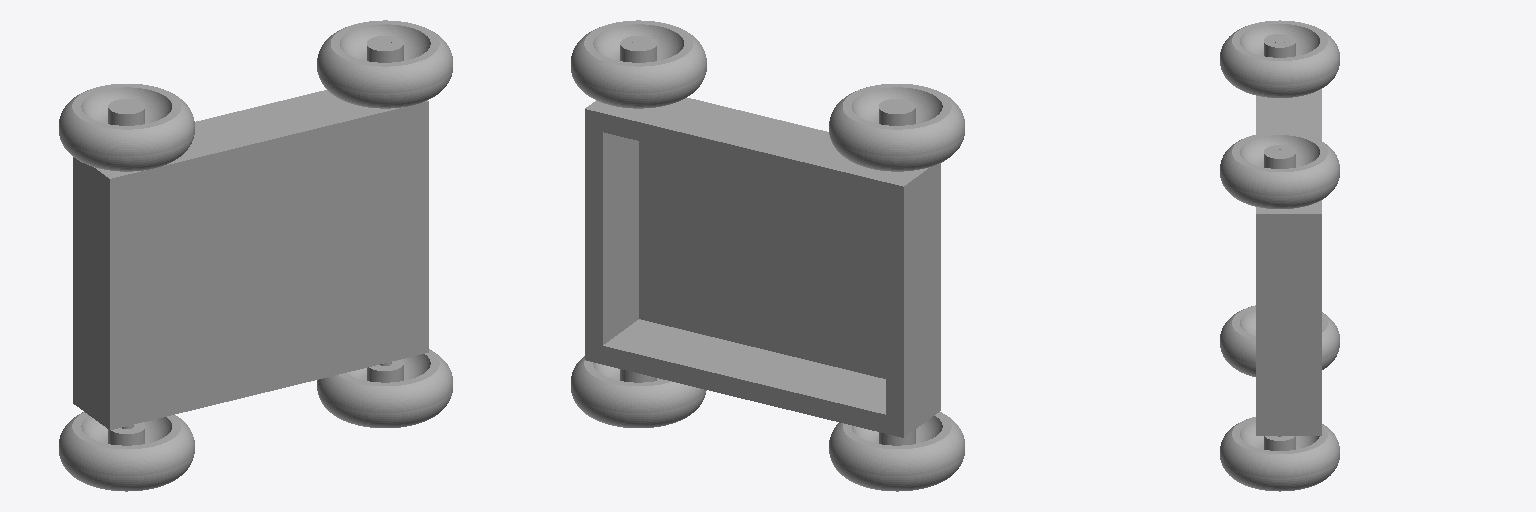
robot.urdf — solverbot:
<?xml version="1.0" ?>
<robot name="solverbot">

  <!-- Material -->
  <material name="silver">
    <color rgba="0.700 0.700 0.700 1.000"/>
  </material>

  <!-- Gazebo plugins y materiales -->
  <gazebo>
    <plugin filename="libgazebo_ros_control.so" name="control"/>
  </gazebo>

  <gazebo reference="base_link">
    <material>Gazebo/Silver</material>
    <mu1>0.2</mu1>
    <mu2>0.2</mu2>
    <selfCollide>true</selfCollide>
    <gravity>true</gravity>
  </gazebo>

  <gazebo reference="left_wheel_1">
    <material>Gazebo/Silver</material>
    <mu1>0.2</mu1>
    <mu2>0.2</mu2>
    <selfCollide>true</selfCollide>
  </gazebo>

  <gazebo reference="left_wheel__1__1">
    <material>Gazebo/Silver</material>
    <mu1>0.2</mu1>
    <mu2>0.2</mu2>
    <selfCollide>true</selfCollide>
  </gazebo>

  <gazebo reference="rigth_wheel_1">
    <material>Gazebo/Silver</material>
    <mu1>0.2</mu1>
    <mu2>0.2</mu2>
    <selfCollide>true</selfCollide>
  </gazebo>

  <gazebo reference="rigth_wheel__1__1">
    <material>Gazebo/Silver</material>
    <mu1>0.2</mu1>
    <mu2>0.2</mu2>
    <selfCollide>true</selfCollide>
  </gazebo>

  <!-- Base principal -->
  <link name="base_link">
    <inertial>
      <origin rpy="0 0 0" xyz="0.2025 0.0381 0.1525"/>
      <mass value="21.4927"/>
      <inertia ixx="0.3162" ixy="0" ixz="0" iyy="0.7727" iyz="0" izz="0.4829"/>
    </inertial>
    <visual>
      <origin rpy="0 0 0" xyz="0 0 0"/>
      <geometry>
        <mesh filename="package://solver_description/meshes/base_link.stl" scale="0.001 0.001 0.001"/>
      </geometry>
      <material name="silver"/>
    </visual>
    <collision>
      <origin rpy="0 0 0" xyz="0 0 0"/>
      <geometry>
        <mesh filename="package://solver_description/meshes/base_link.stl" scale="0.001 0.001 0.001"/>
      </geometry>
    </collision>
  </link>

  <!-- Ruedas izquierda -->
  <link name="left_wheel_1">
    <visual>
      <origin rpy="0 0 0" xyz="-0.0385 -0.0295 0.067"/>
      <geometry>
        <mesh filename="package://solver_description/meshes/left_wheel_1.stl" scale="0.001 0.001 0.001"/>
      </geometry>
      <material name="silver"/>
    </visual>
  </link>

  <link name="left_wheel__1__1">
    <visual>
      <origin rpy="0 0 0" xyz="-0.3665 -0.0295 0.067"/>
      <geometry>
        <mesh filename="package://solver_description/meshes/left_wheel__1__1.stl" scale="0.001 0.001 0.001"/>
      </geometry>
      <material name="silver"/>
    </visual>
  </link>

  <!-- Ruedas derecha -->
  <link name="rigth_wheel_1">
    <visual>
      <origin rpy="0 0 0" xyz="-0.3665 -0.0295 -0.372"/>
      <geometry>
        <mesh filename="package://solver_description/meshes/rigth_wheel_1.stl" scale="0.001 0.001 0.001"/>
      </geometry>
      <material name="silver"/>
    </visual>
  </link>

  <link name="rigth_wheel__1__1">
    <visual>
      <origin rpy="0 0 0" xyz="-0.0385 -0.0295 -0.372"/>
      <geometry>
        <mesh filename="package://solver_description/meshes/rigth_wheel__1__1.stl" scale="0.001 0.001 0.001"/>
      </geometry>
      <material name="silver"/>
    </visual>
  </link>

  <!-- Juntas fijas -->
  <joint name="rigid_1" type="fixed">
    <origin rpy="0 0 0" xyz="0.0385 0.0295 -0.067"/>
    <parent link="base_link"/>
    <child link="left_wheel_1"/>
  </joint>

  <joint name="rigid_2" type="fixed">
    <origin rpy="0 0 0" xyz="0.3665 0.0295 -0.067"/>
    <parent link="base_link"/>
    <child link="left_wheel__1__1"/>
  </joint>

  <joint name="rigid_3" type="fixed">
    <origin rpy="0 0 0" xyz="0.3665 0.0295 0.372"/>
    <parent link="base_link"/>
    <child link="rigth_wheel_1"/>
  </joint>

  <joint name="rigid_4" type="fixed">
    <origin rpy="0 0 0" xyz="0.0385 0.0295 0.372"/>
    <parent link="base_link"/>
    <child link="rigth_wheel__1__1"/>
  </joint>

</robot>

--- Facts derived from the render (not from the file) ---
3 views of the same robot in one strip: view 1: azimuth 30°, elevation 25°; view 2: azimuth 150°, elevation 25°; view 3: azimuth 270°, elevation 25° (orthographic).
Model solverbot with 5 links and 4 joints (4 fixed), rooted at base_link, posed every joint at zero.
Visible links, largest first — view 1: base_link, rigth_wheel_1, rigth_wheel__1__1, left_wheel_1, left_wheel__1__1; view 2: base_link, rigth_wheel_1, rigth_wheel__1__1, left_wheel_1, left_wheel__1__1; view 3: base_link, rigth_wheel_1, rigth_wheel__1__1, left_wheel__1__1, left_wheel_1.
Link boxes in pixels (box(x1,y1,x2,y2)): base_link: box(73, 41, 428, 429); rigth_wheel_1: box(317, 20, 452, 108); rigth_wheel__1__1: box(59, 84, 194, 171); left_wheel_1: box(59, 412, 194, 491); left_wheel__1__1: box(317, 349, 452, 427); base_link: box(585, 41, 940, 437); rigth_wheel_1: box(571, 20, 706, 108); rigth_wheel__1__1: box(829, 84, 964, 171); left_wheel_1: box(829, 412, 964, 491); left_wheel__1__1: box(571, 356, 706, 427); base_link: box(1256, 38, 1321, 436); rigth_wheel_1: box(1220, 132, 1339, 208); rigth_wheel__1__1: box(1220, 20, 1339, 97); left_wheel__1__1: box(1220, 417, 1339, 491); left_wheel_1: box(1220, 305, 1339, 376).
Bounding box of the posed robot: 0.478 × 0.15 × 0.439 m (x, y, z).
Meshes: 5 distinct files referenced, 5 mesh visuals loaded (5 binary STL).